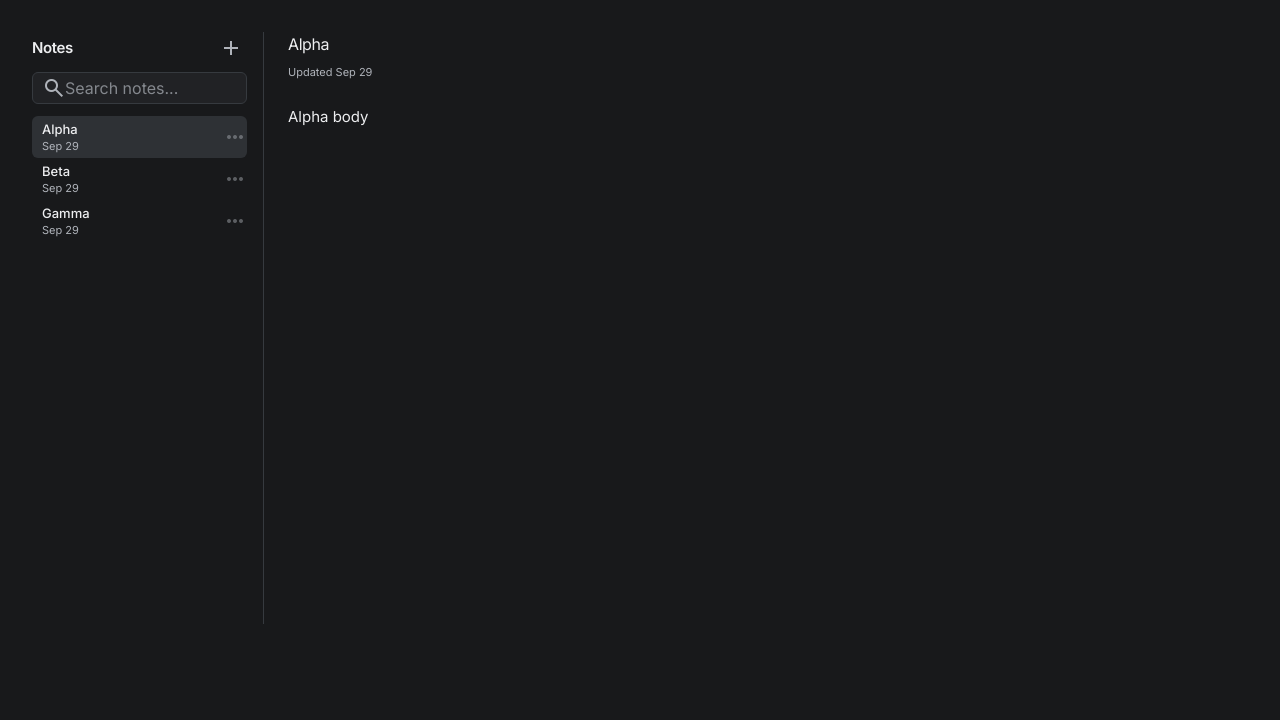
Test: title editing › shows "Untitled" for an empty local title without ever persisting the literal
Step 1. Clear the field named "Note title" → (668, 44), box left=288, top=32, right=1048, bottom=56
Wait 300 ms
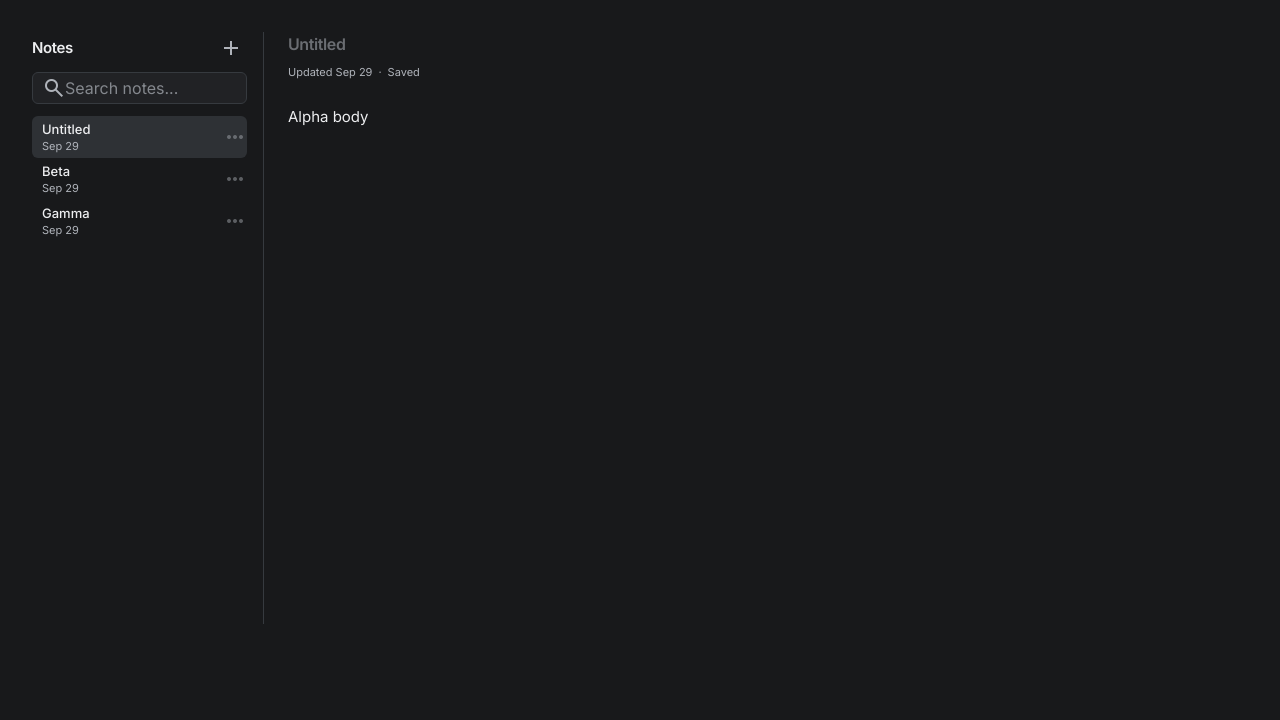
Check: the text with class "truncate" reads "Untitled", box left=42, top=121, right=90, bottom=137
